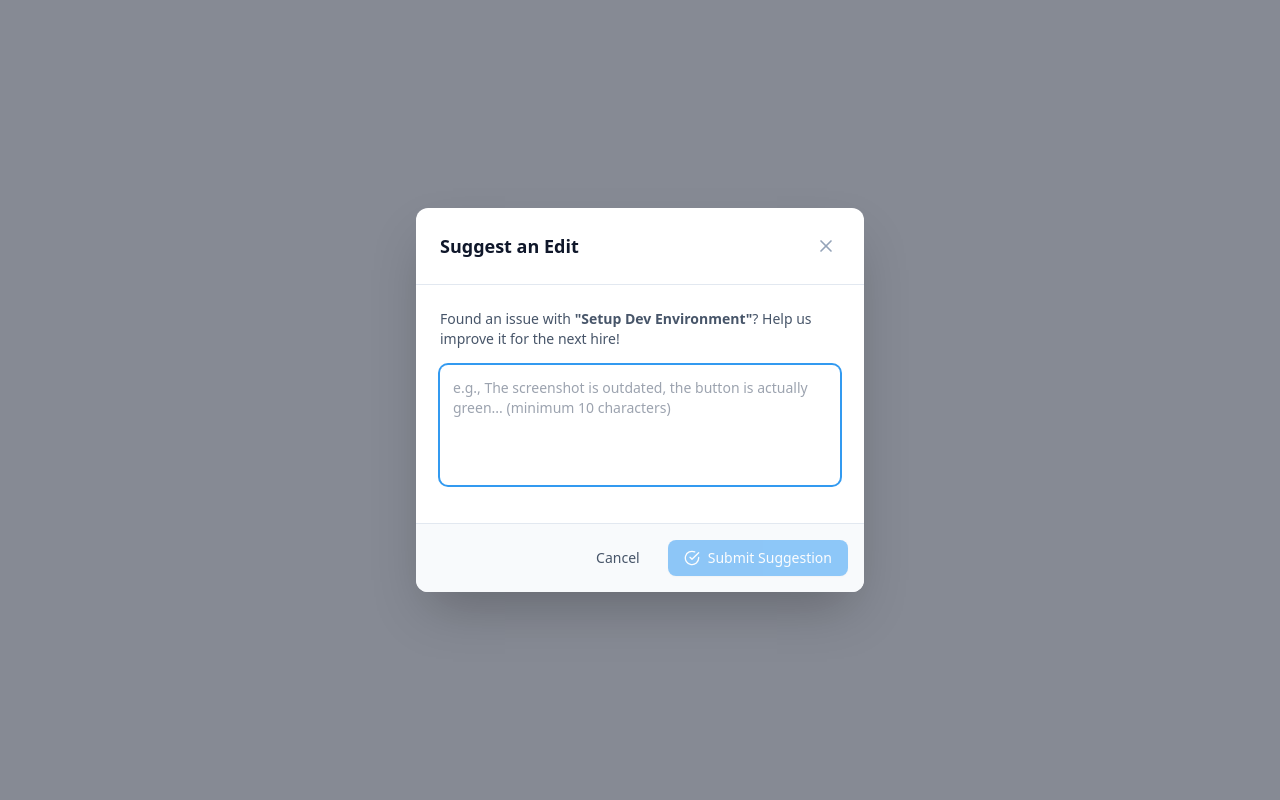
Test case: SuggestEditModal › validation warning banner contains dark:bg-amber-900/20
Type "short" into the text box named "Suggestion text" at (640, 425), box x1=440 y1=365 x2=840 y2=485
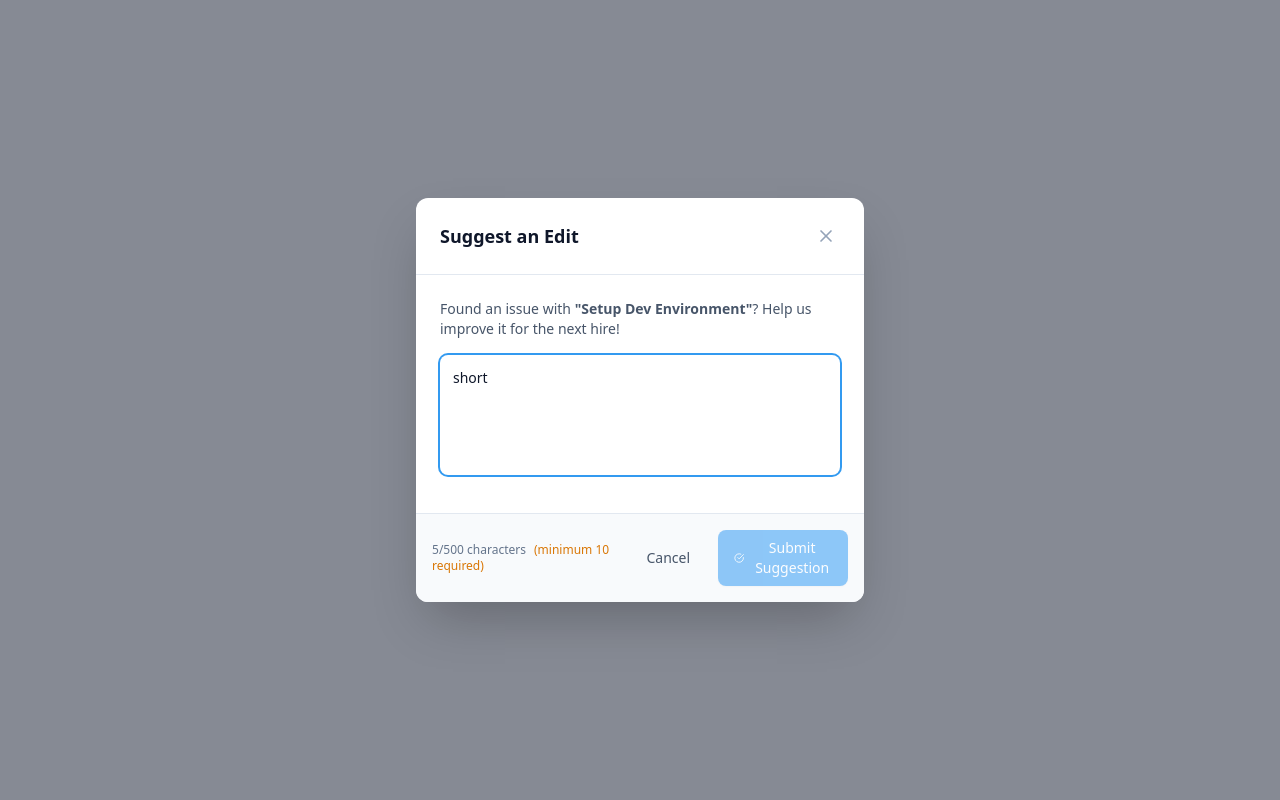
Submit the form, box x1=440 y1=355 x2=840 y2=481
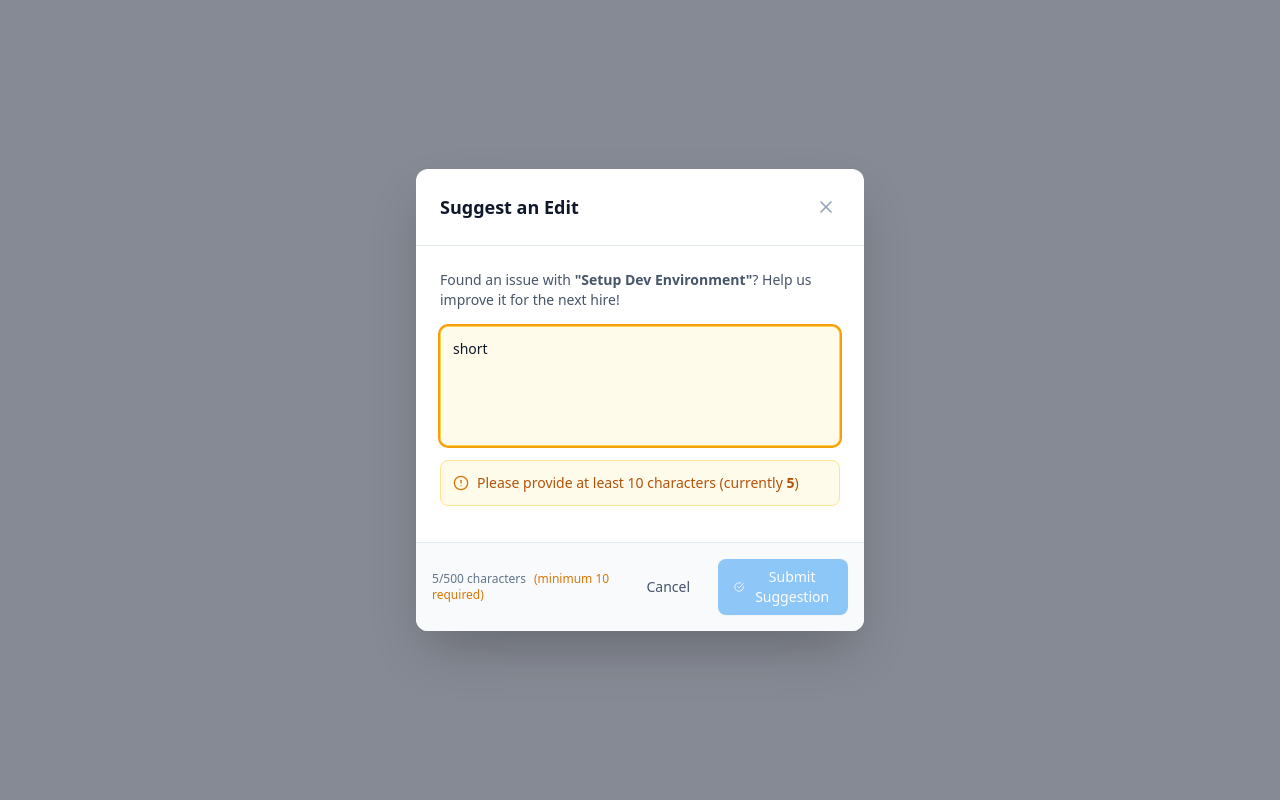
Expected: the text "Please provide at least 10 characters (currently 5)" is shown, x1=440 y1=460 x2=840 y2=506
